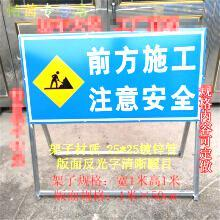sign: (21, 35, 199, 118)
